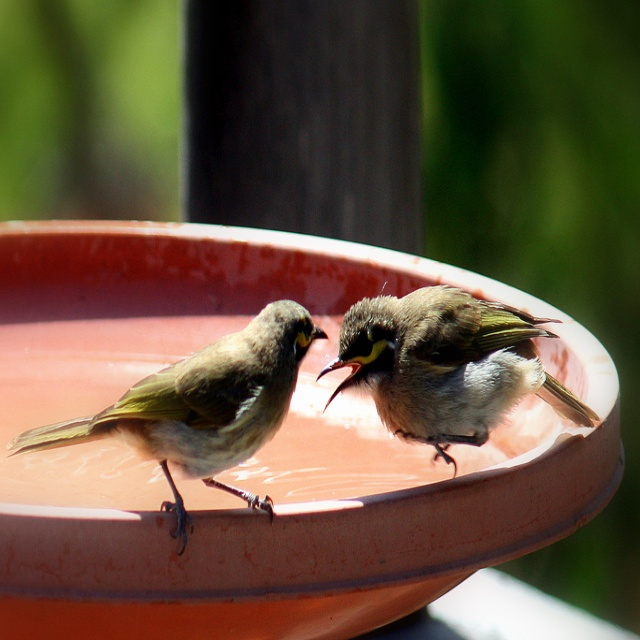Sparrow: (7, 298, 328, 563), (317, 293, 600, 476)
